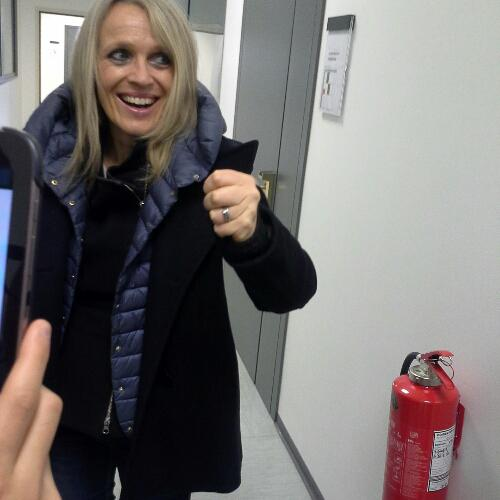rock: (190, 164, 274, 248)
